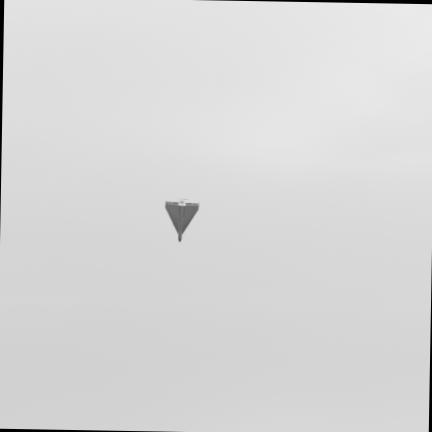Shahed: (165, 199, 198, 240)
